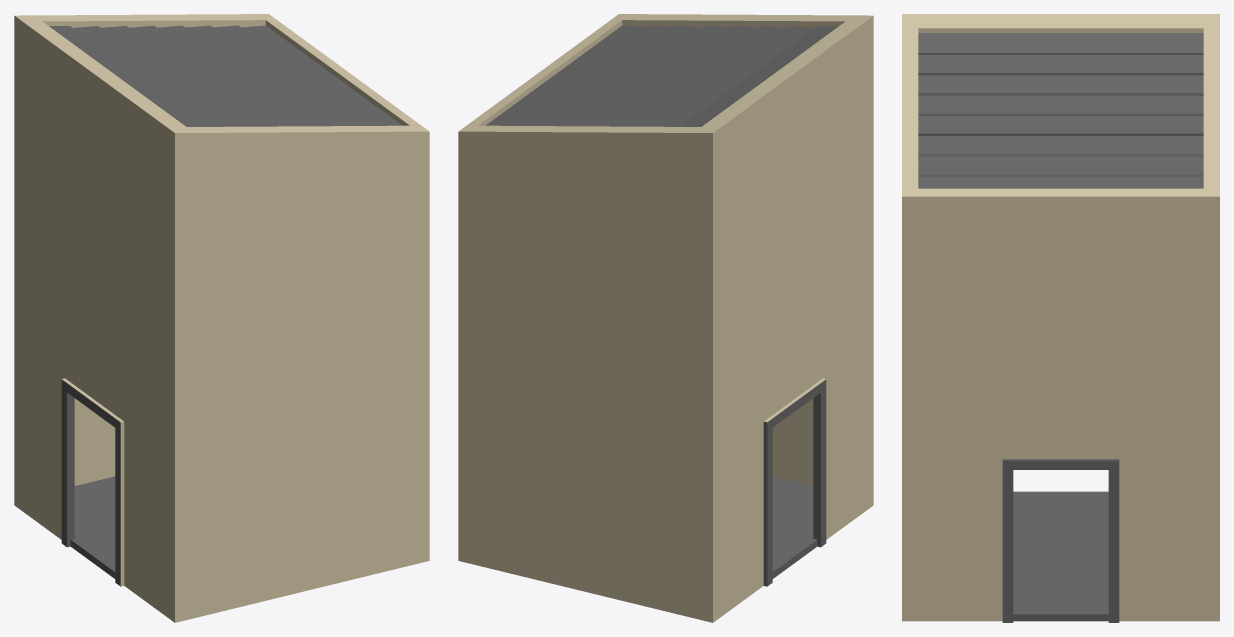
Rendered from HighBuilding2-1.fbx.
3 renders of one model, left to right at view 1: azimuth 30°, elevation 25°; view 2: azimuth 150°, elevation 25°; view 3: azimuth 270°, elevation 25°, orthographic.
Visible parts, largest first — view 1: HighBuilding2.000_LOD0; view 2: HighBuilding2.000_LOD0; view 3: HighBuilding2.000_LOD0.
Boxes of the visible parts, box(x1,y1,x2,y2) form: HighBuilding2.000_LOD0: box(14, 14, 429, 622); HighBuilding2.000_LOD0: box(458, 14, 873, 622); HighBuilding2.000_LOD0: box(902, 14, 1219, 622).
Size of what is drawn, in the model's own units: 796 by 1423 by 846.
Materials: 1 (1 with a texture image).
